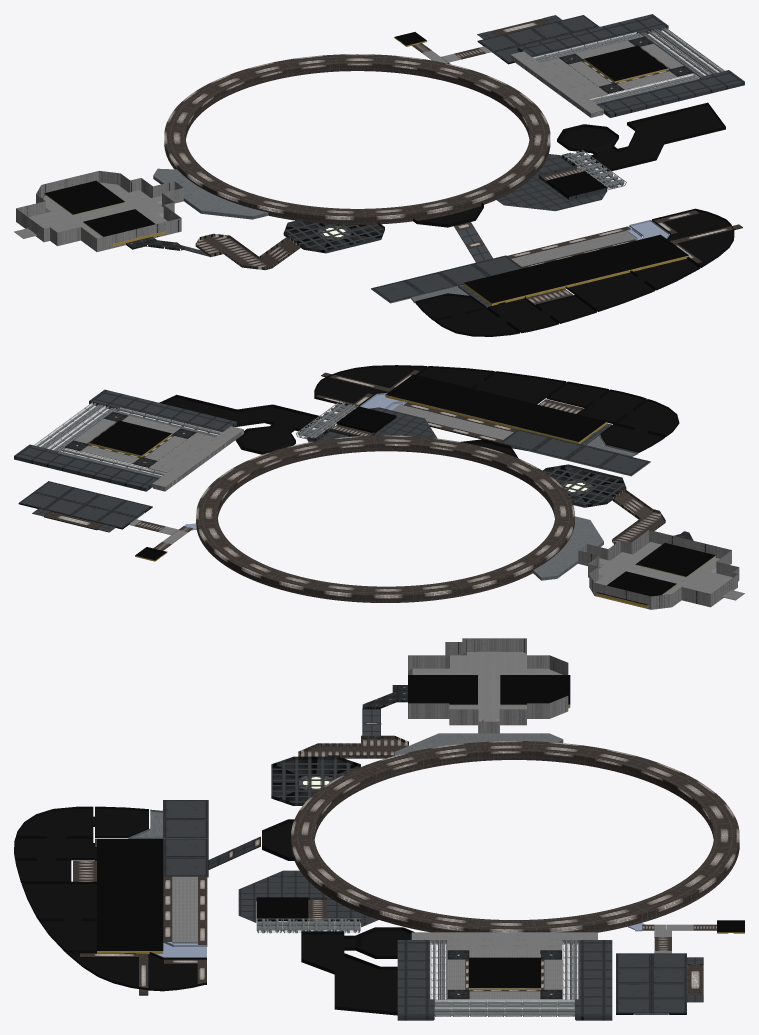
Rendered from Roof MESH .fbx.
3 renders of one model, top to bottom at view 1: azimuth 30°, elevation 25°; view 2: azimuth 150°, elevation 25°; view 3: azimuth 270°, elevation 25°, orthographic. The views are drawn at different scales.
Visible parts, largest first — view 1: Roof; view 2: Roof; view 3: Roof.
Boxes of the visible parts, x1=… form: Roof: x1=14, y1=14, x2=744, y2=336; Roof: x1=14, y1=365, x2=744, y2=609; Roof: x1=14, y1=638, x2=744, y2=1020.
Size of the model in its own units: 19865 by 1174 by 15758.
